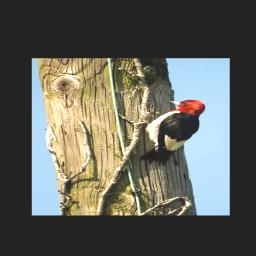Woodpecker: (130, 99, 207, 166)
